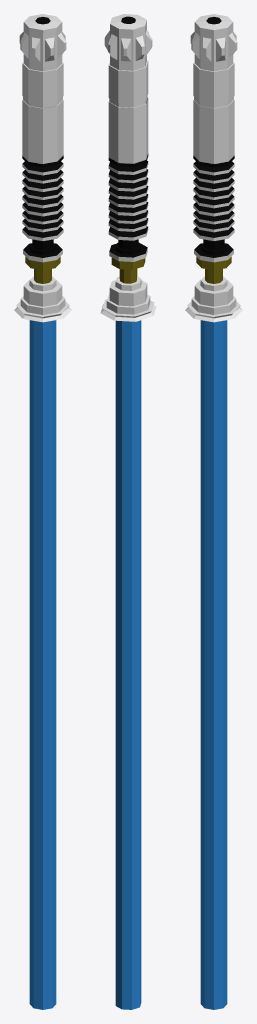
Rendered from kenobi_on.fbx.
3 views of the same model, side by side, from view 1: azimuth 90°, elevation 25°; view 2: azimuth 150°, elevation 25°; view 3: azimuth 270°, elevation 25° (orthographic).
Parts seen in each view (by area): view 1: Cylinder; view 2: Cylinder; view 3: Cylinder.
Part boxes in pixels (bbox=[...]): Cylinder: bbox=[14, 14, 71, 1009]; Cylinder: bbox=[100, 14, 156, 1009]; Cylinder: bbox=[185, 14, 242, 1009].
Size of the model in its own units: 0.0424 by 0.7947 by 0.0424.
